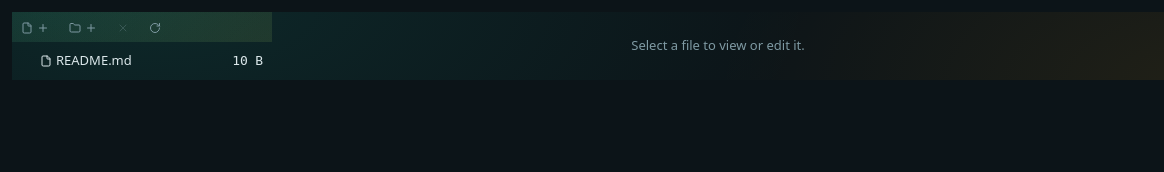
Test: ExplorerView › saves the buffer and refreshes the folder, because the size just changed
Expected: the text "README.md" is shown, [56,51,132,69]
Click the button with test id "explorer-item" at [94, 60], box [12,44,272,76]
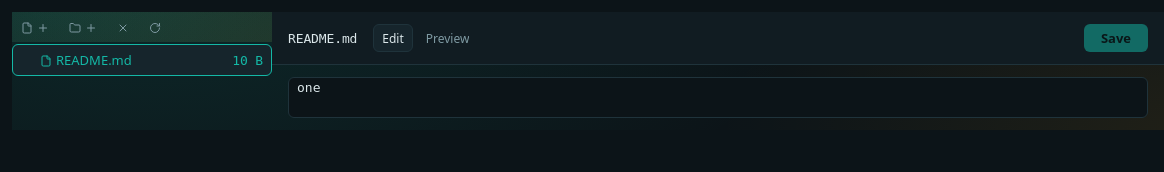
Expected: the text box is shown
Expected: the button "Save" is disabled, [1084,24,1148,52]
Replace the text in the text box with "one two" at [718, 98], box [288,77,1148,118]
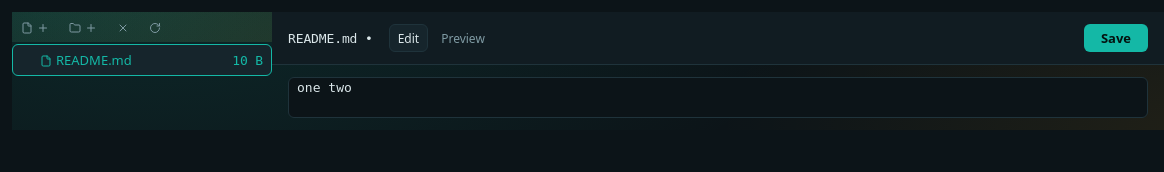
Expected: the button "Save" is enabled
Click the button "Save" at [1116, 38], box [1084,24,1148,52]
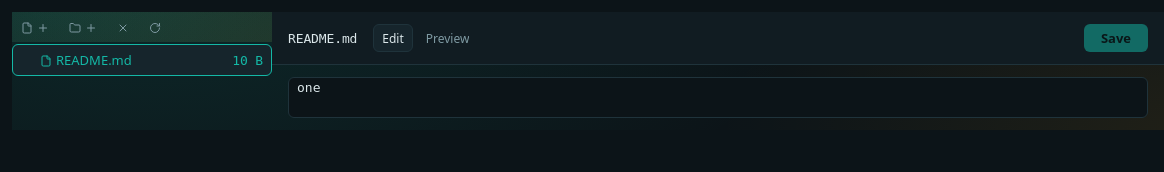
Expected: the button "Save" is disabled, [1084,24,1148,52]
